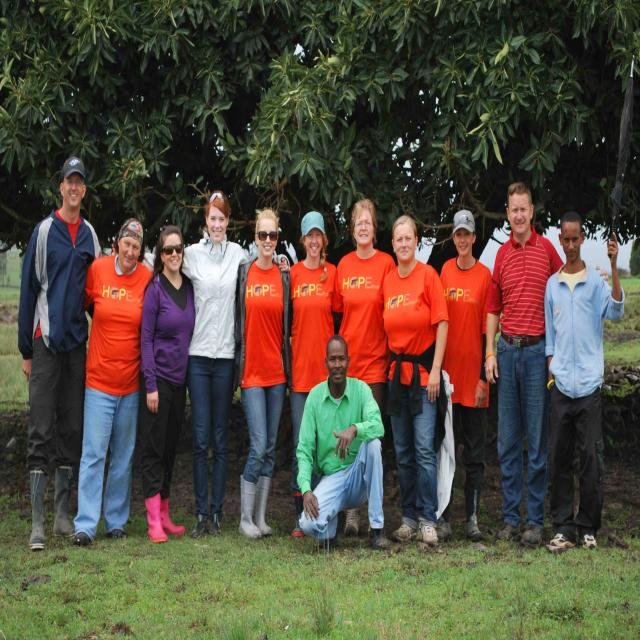body: (111, 188, 291, 540), (483, 179, 613, 552), (15, 154, 105, 553), (544, 209, 626, 552), (71, 215, 154, 548), (381, 213, 450, 547), (331, 198, 397, 536), (436, 208, 500, 542), (295, 334, 391, 550), (232, 209, 293, 541), (286, 209, 346, 539), (138, 224, 196, 544)
